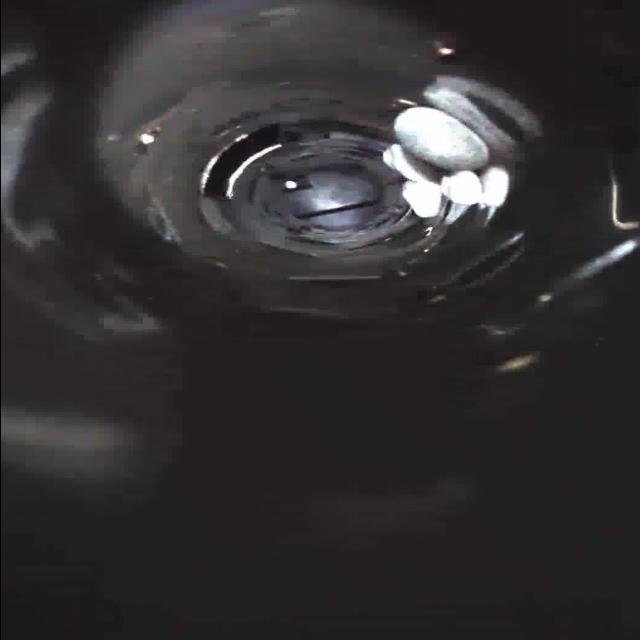hole: (188, 120, 288, 204)
